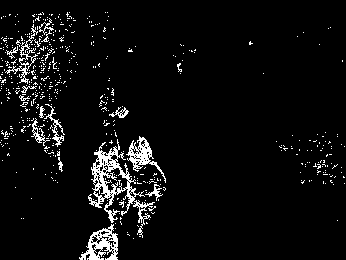person: (126, 138, 166, 238), (90, 142, 128, 228), (35, 103, 63, 173)
